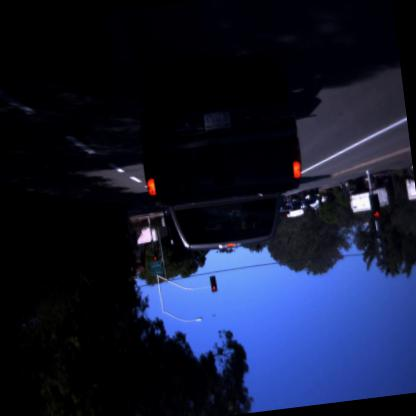trafficlight: (366, 189, 384, 225), (146, 235, 162, 266), (205, 271, 220, 296)
